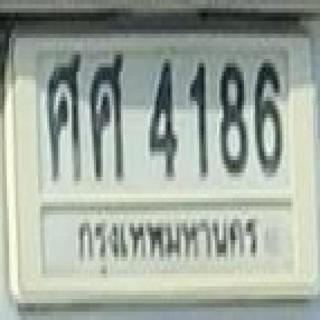A38: (40, 50, 87, 186), (86, 51, 132, 183)
N01: (184, 57, 214, 181)
N04: (142, 55, 184, 180)
N06: (247, 57, 289, 176)
N08: (213, 56, 248, 176)
P04: (73, 215, 264, 273)
